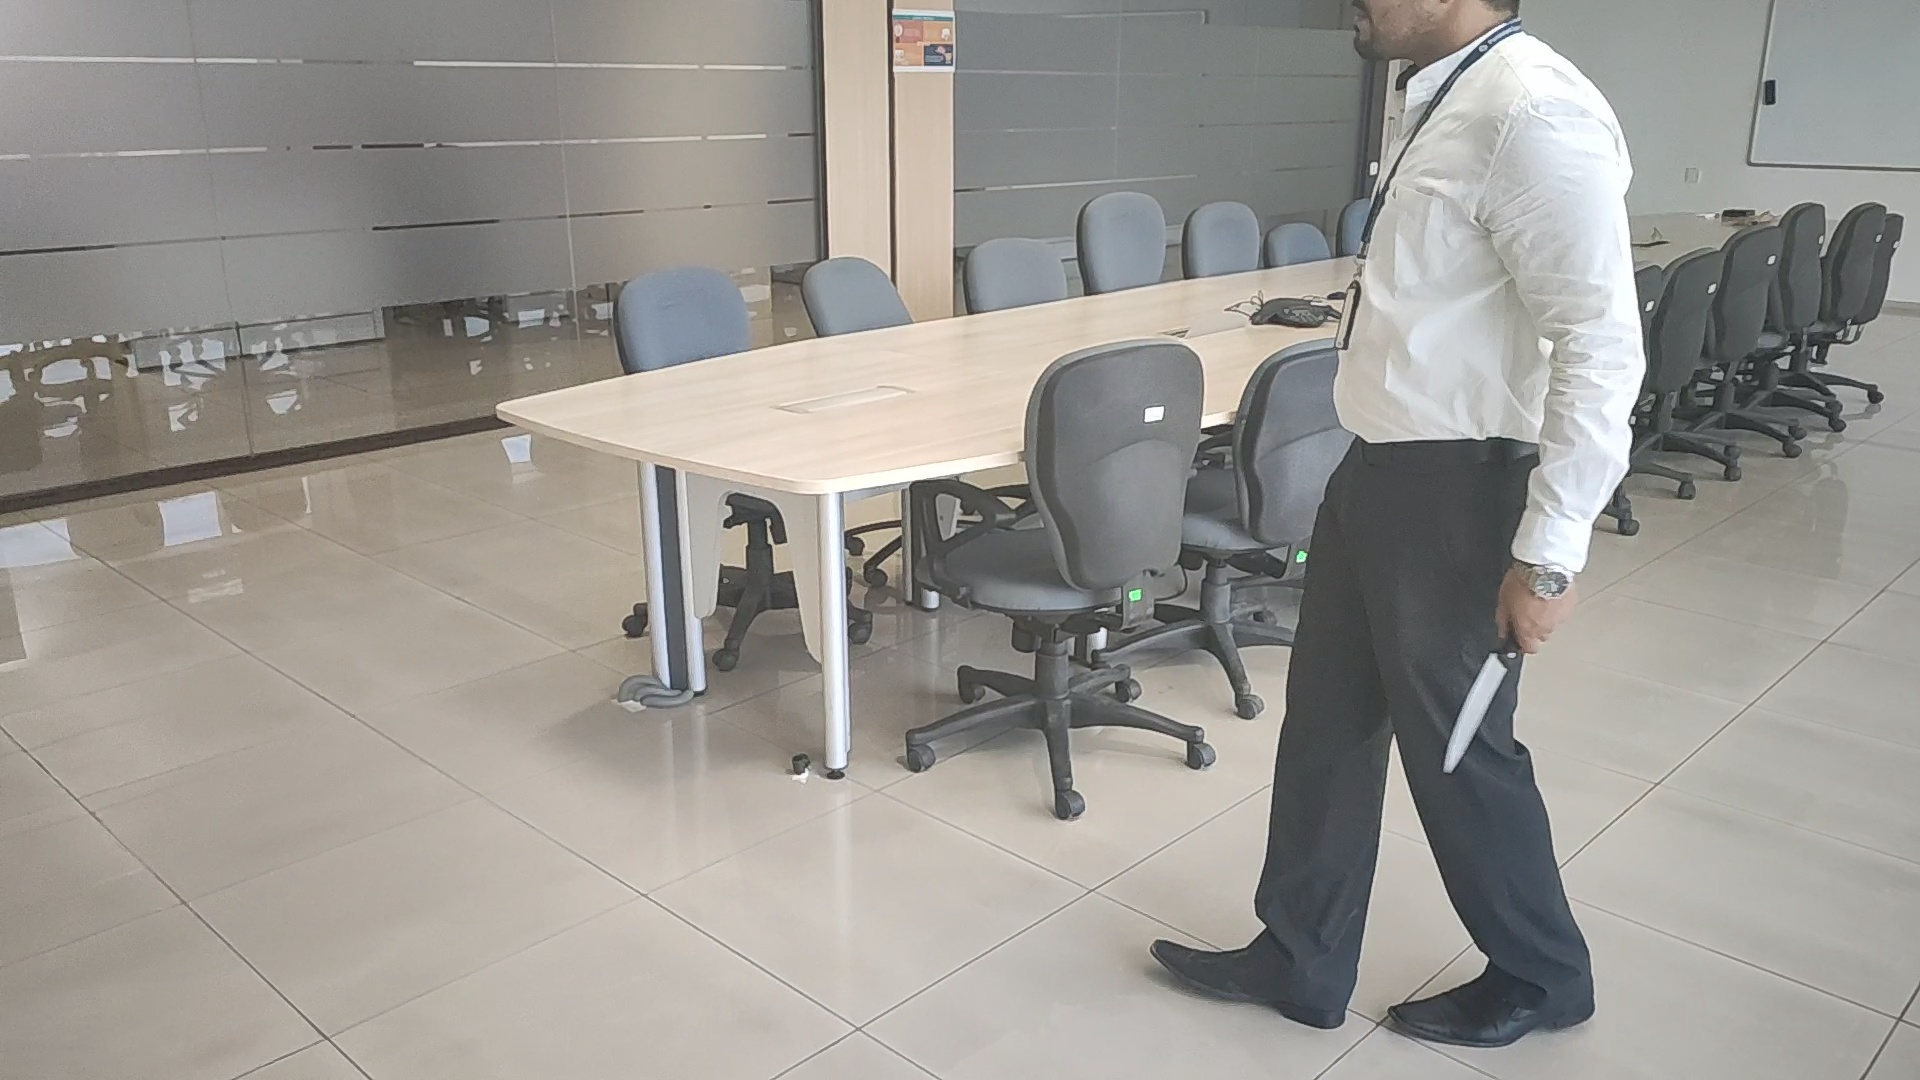knife: (1440, 653, 1509, 773)
